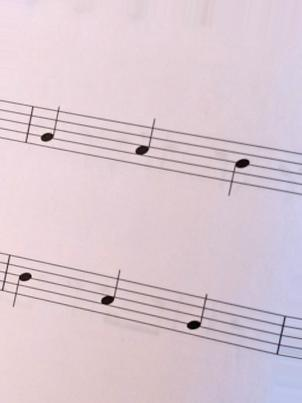note: (224, 134, 253, 200), (183, 285, 212, 349), (36, 97, 65, 157), (132, 115, 159, 176), (10, 250, 35, 312), (98, 265, 123, 324)
